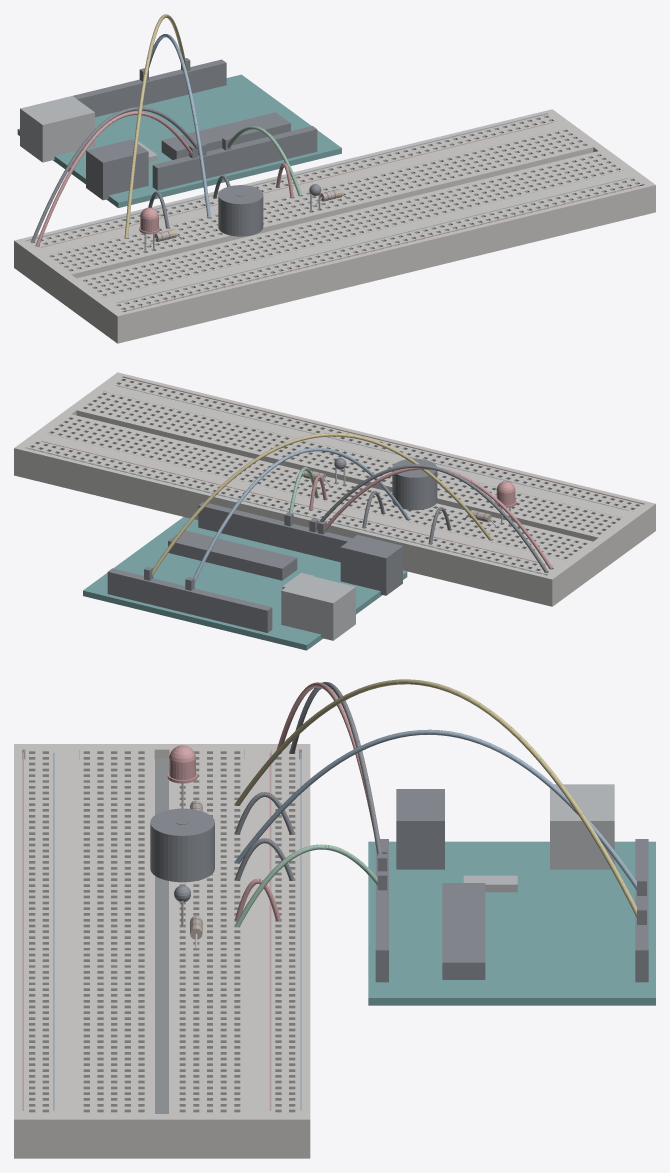
Rendered from step-13.glb.
The picture shows the model from 3 angles, top to bottom: view 1: azimuth 30°, elevation 25°; view 2: azimuth 150°, elevation 25°; view 3: azimuth 270°, elevation 25°; orthographic projection. The views are drawn at different scales.
Parts seen in each view (by area): view 1: breadboard_1__mesh, arduino_uno__mesh, buzzer_1__mesh, wire_led_sig__mesh, wire_main_gnd__mesh, wire_main_5v__mesh, wire_buzzer_sig__mesh, wire_therm_sig__mesh, led_red__mesh; view 2: breadboard_1__mesh, arduino_uno__mesh, wire_led_sig__mesh, buzzer_1__mesh, wire_buzzer_sig__mesh, wire_main_gnd__mesh, wire_main_5v__mesh, led_red__mesh, wire_therm_sig__mesh; view 3: breadboard_1__mesh, arduino_uno__mesh, buzzer_1__mesh, wire_led_sig__mesh, wire_buzzer_sig__mesh, wire_main_gnd__mesh, wire_therm_sig__mesh, led_red__mesh, wire_main_5v__mesh.
Part boxes in pixels (x1,y1,x2,y2): breadboard_1__mesh: [14, 109, 655, 343]; arduino_uno__mesh: [17, 59, 341, 207]; buzzer_1__mesh: [218, 185, 263, 236]; wire_led_sig__mesh: [124, 14, 190, 238]; wire_main_gnd__mesh: [31, 107, 206, 242]; wire_main_5v__mesh: [36, 111, 198, 245]; wire_buzzer_sig__mesh: [139, 34, 210, 217]; wire_therm_sig__mesh: [222, 126, 301, 195]; led_red__mesh: [139, 207, 160, 252]; breadboard_1__mesh: [14, 372, 655, 606]; arduino_uno__mesh: [83, 502, 407, 650]; wire_led_sig__mesh: [144, 433, 492, 580]; buzzer_1__mesh: [392, 458, 437, 510]; wire_buzzer_sig__mesh: [185, 447, 409, 590]; wire_main_gnd__mesh: [309, 464, 547, 572]; wire_main_5v__mesh: [317, 466, 552, 569]; led_red__mesh: [495, 481, 516, 525]; wire_therm_sig__mesh: [284, 467, 318, 526]; breadboard_1__mesh: [14, 744, 310, 1158]; arduino_uno__mesh: [368, 784, 655, 1005]; buzzer_1__mesh: [150, 808, 214, 882]; wire_led_sig__mesh: [235, 679, 646, 924]; wire_buzzer_sig__mesh: [235, 729, 646, 895]; wire_main_gnd__mesh: [289, 682, 387, 871]; wire_therm_sig__mesh: [235, 844, 387, 927]; led_red__mesh: [167, 745, 197, 808]; wire_main_5v__mesh: [276, 682, 387, 853].
Size of the model in its own units: 0.165 by 0.047 by 0.1192.
